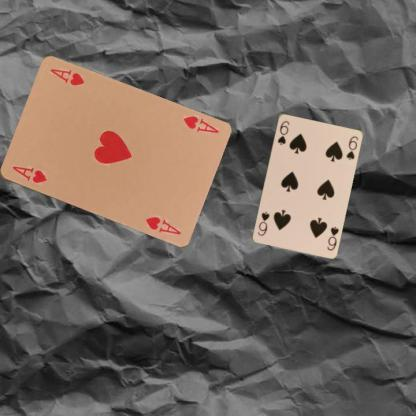6s: (275, 118, 291, 146), (324, 224, 340, 251)
Ah: (9, 162, 49, 185), (180, 113, 220, 135)
